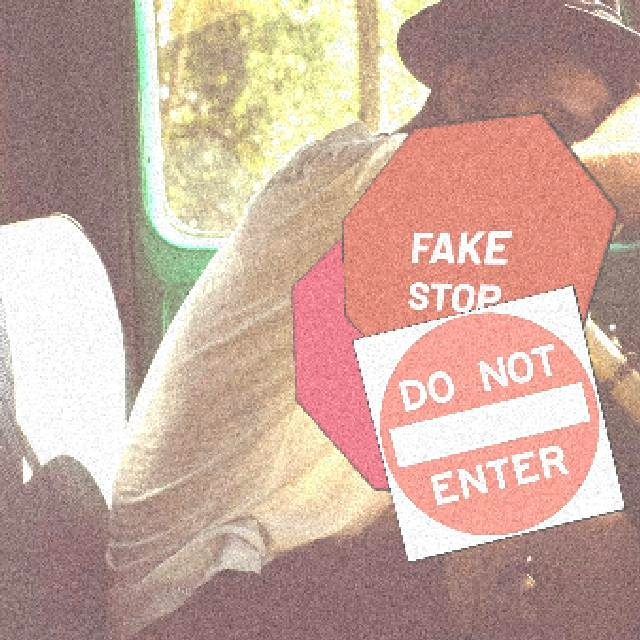DO_NOT_ENTER: (350, 283, 625, 562)
FAKE_STOP: (340, 109, 619, 388), (289, 217, 539, 496)
